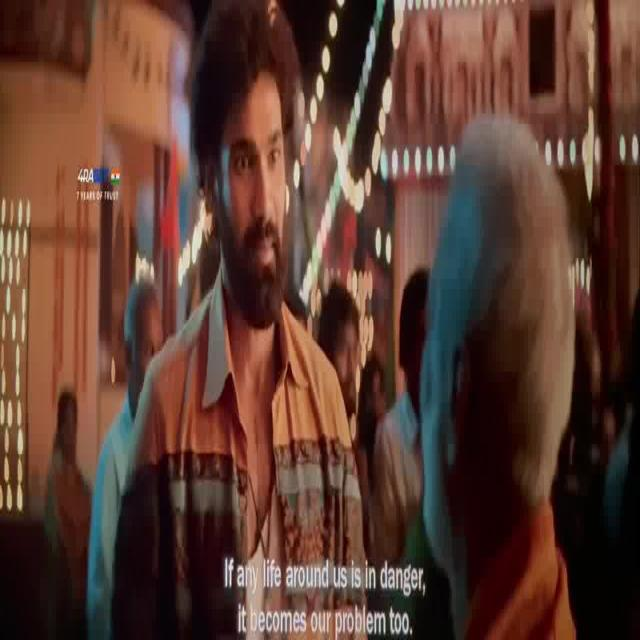4rabet: (72, 142, 109, 214)
